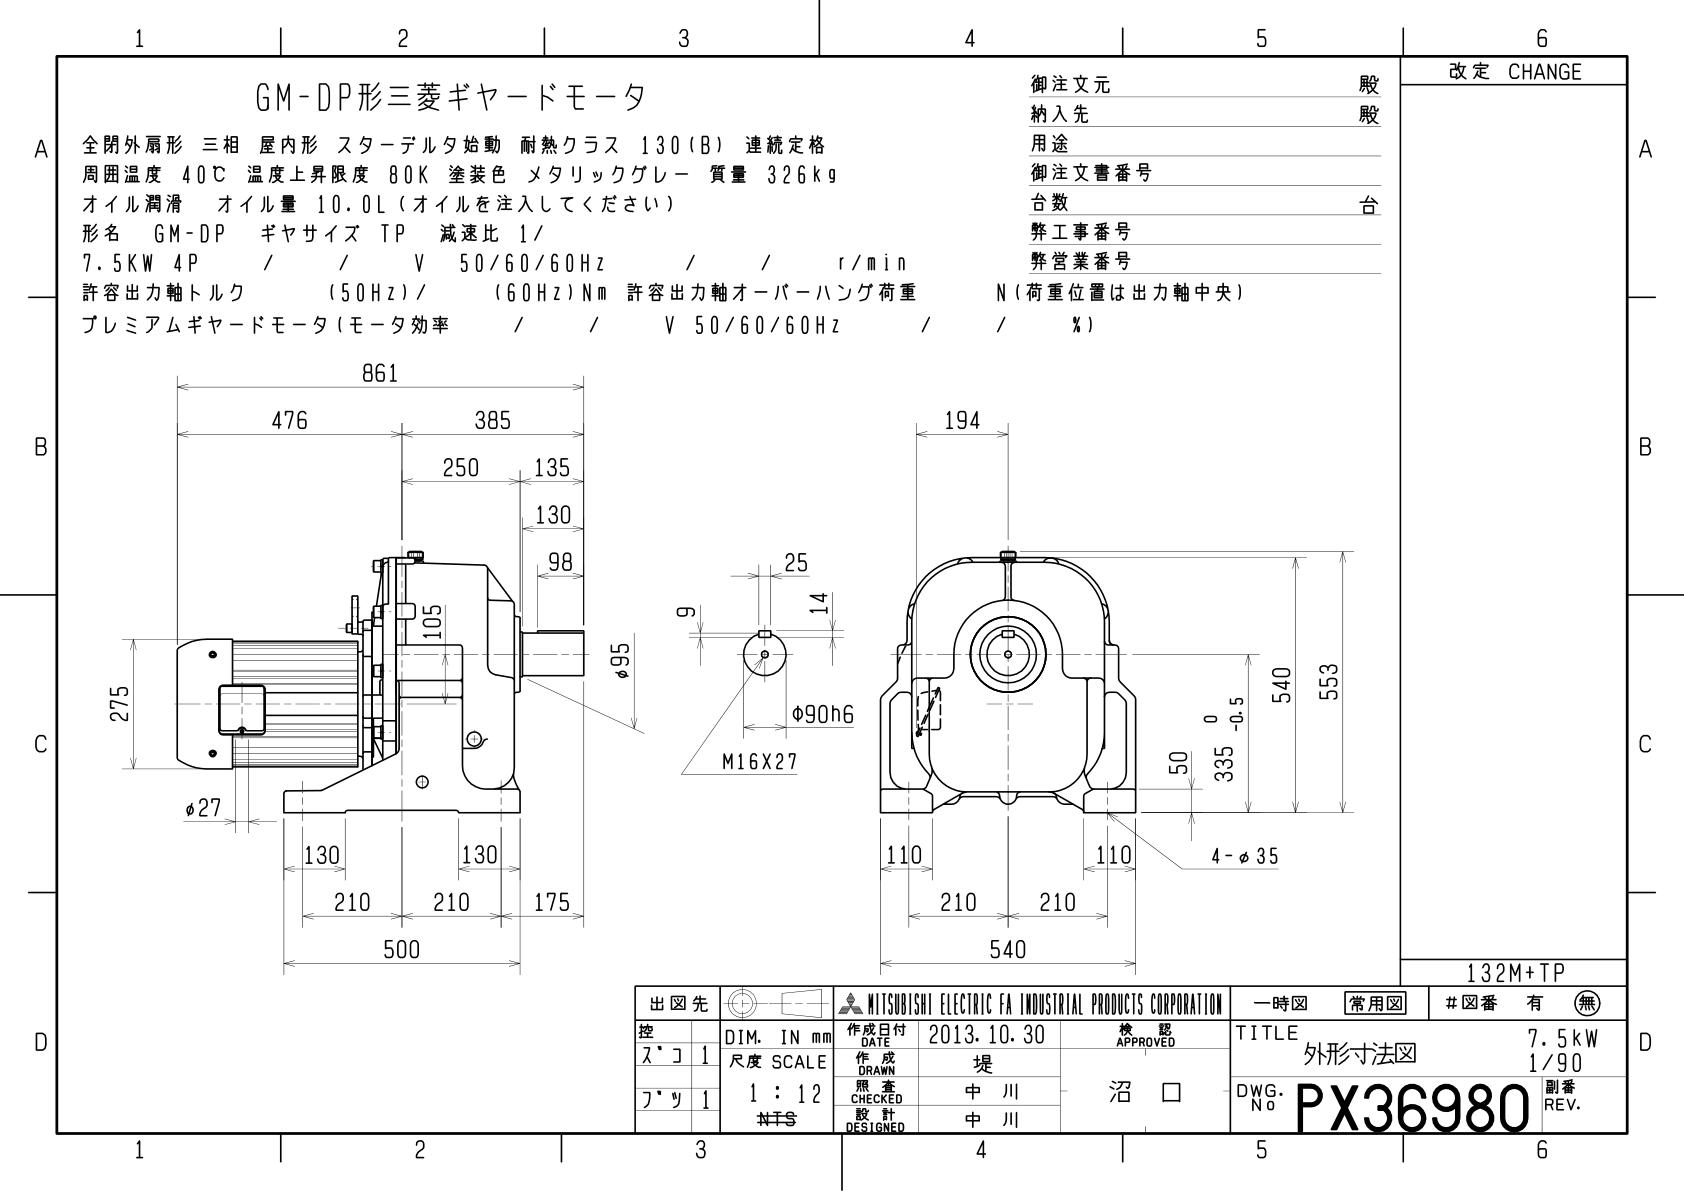GM_D_屋内＿三相_脚: (6, 1, 1681, 1169)
